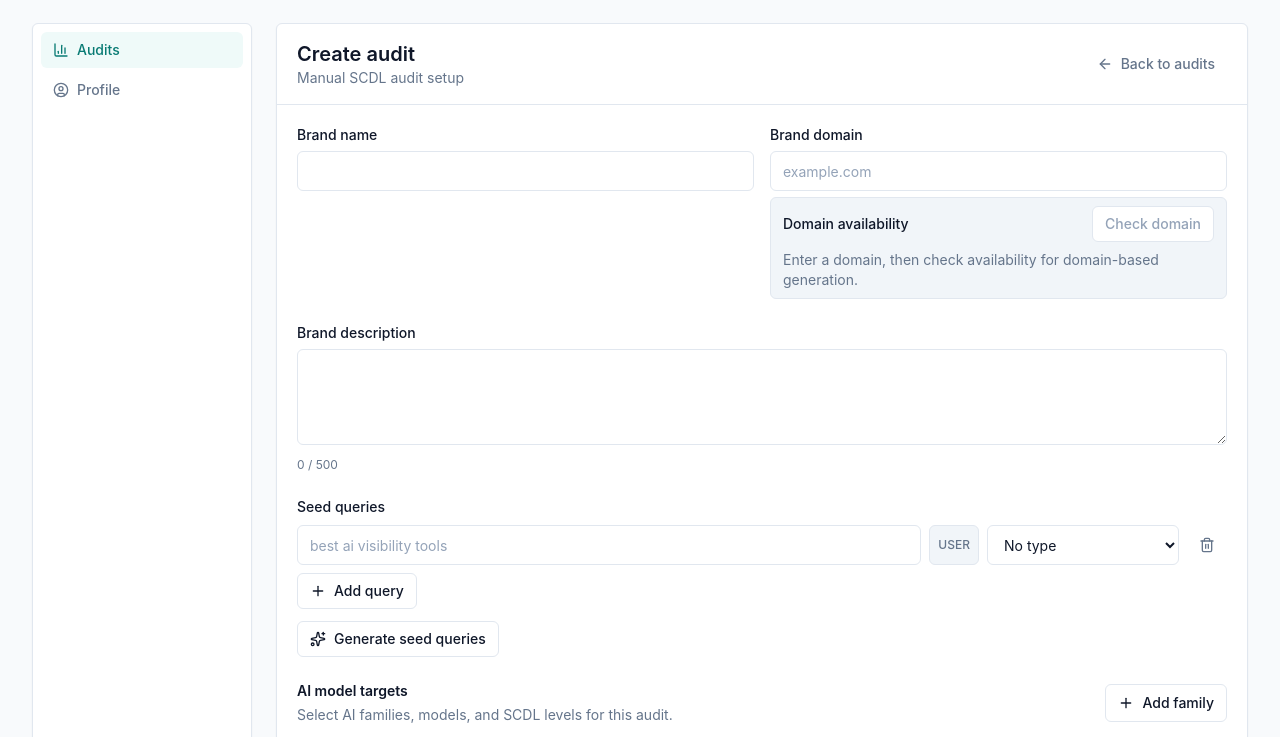
Scenario: create audit page › validates required brand domain before API submission
Expected: the heading "Create audit" is shown, [297,42,415,66]
Type "Acme AI" into the field labelled "Brand name".
click(526, 171); type("Acme AI")  # box [297,151,754,191]
(page scrolled)
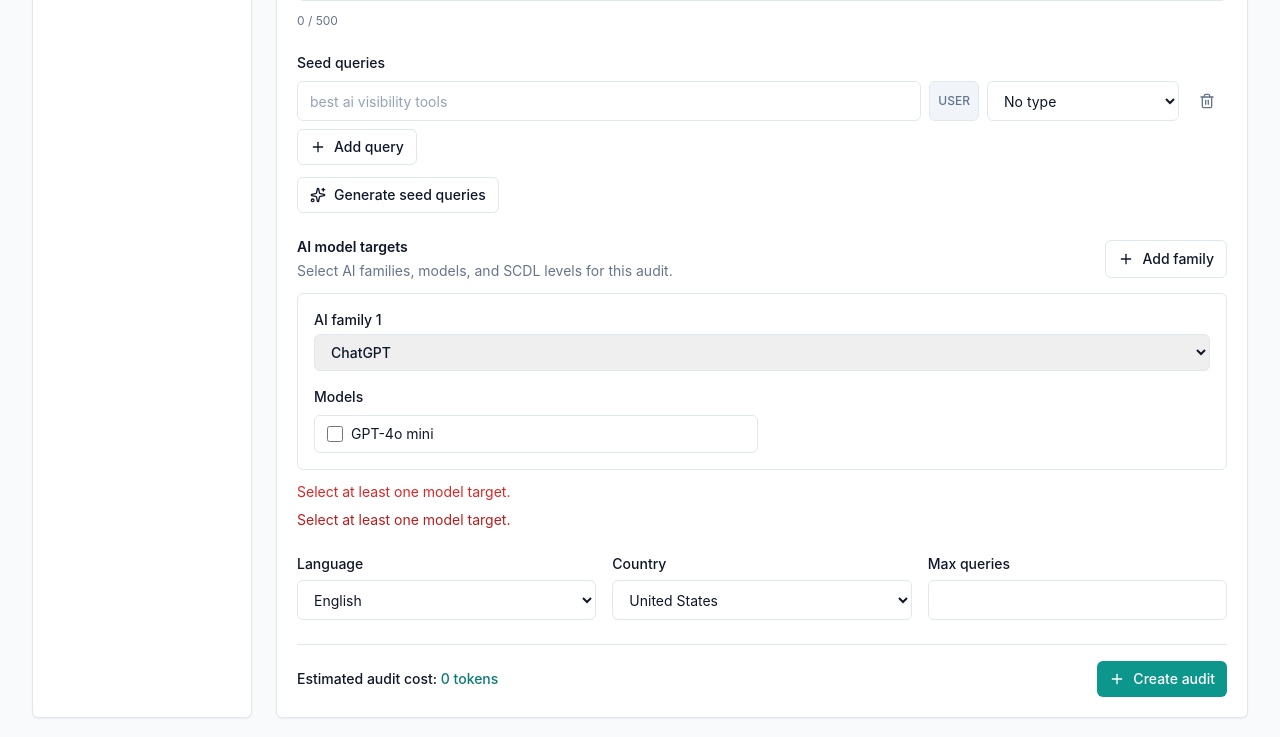
Click the button "Create audit".
click(1162, 679)  # box [1097,661,1227,697]
(page scrolled)
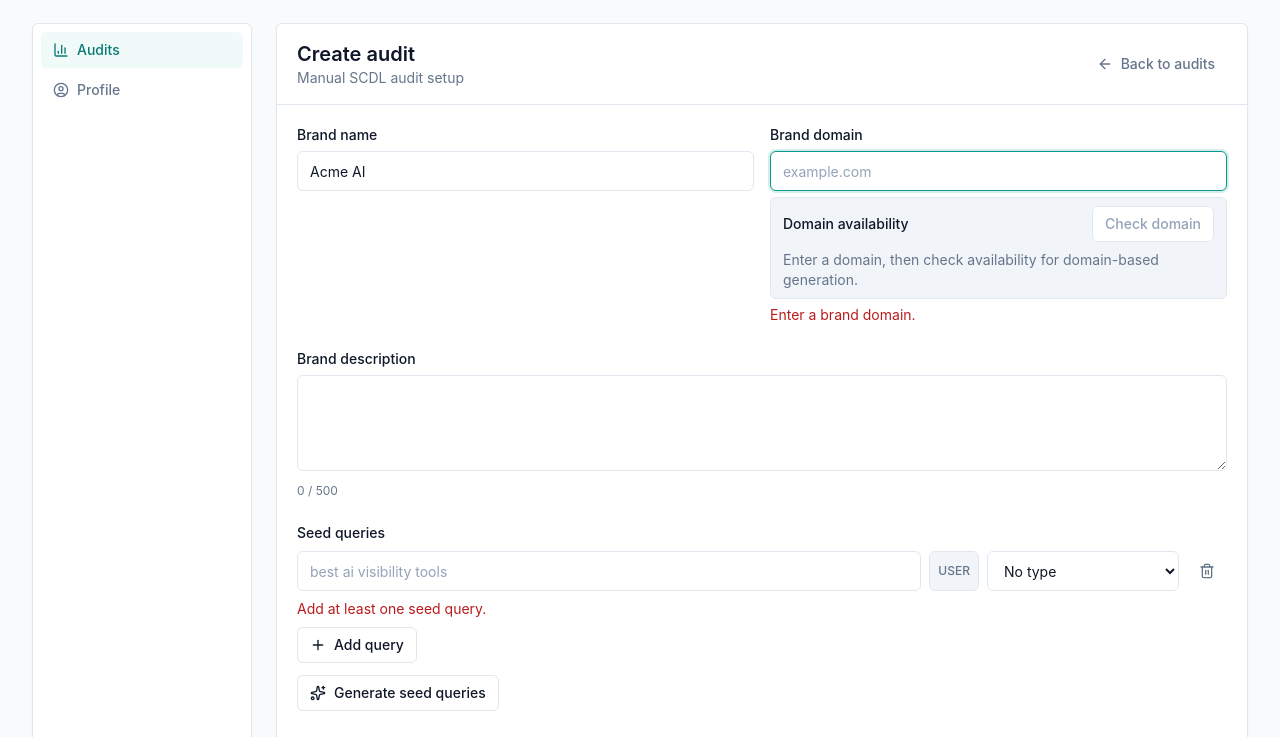
Result: the text "Enter a brand domain." is shown at [770,306,916,323]
